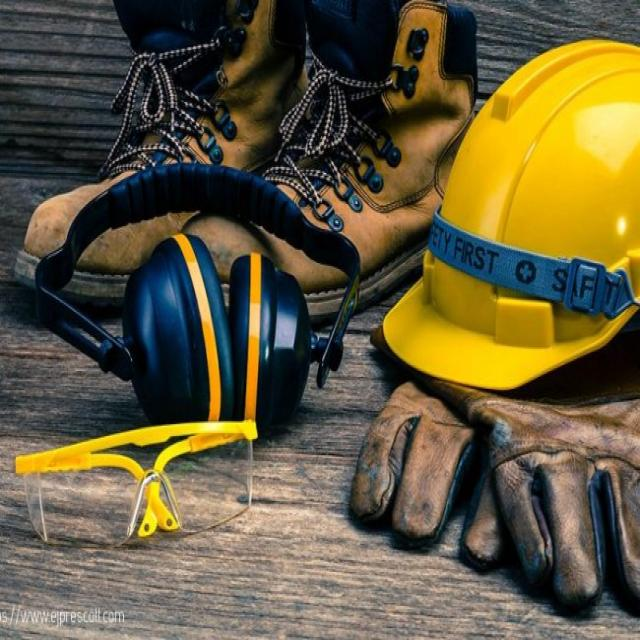goggles: (15, 411, 264, 553)
helmet: (380, 38, 640, 394)
